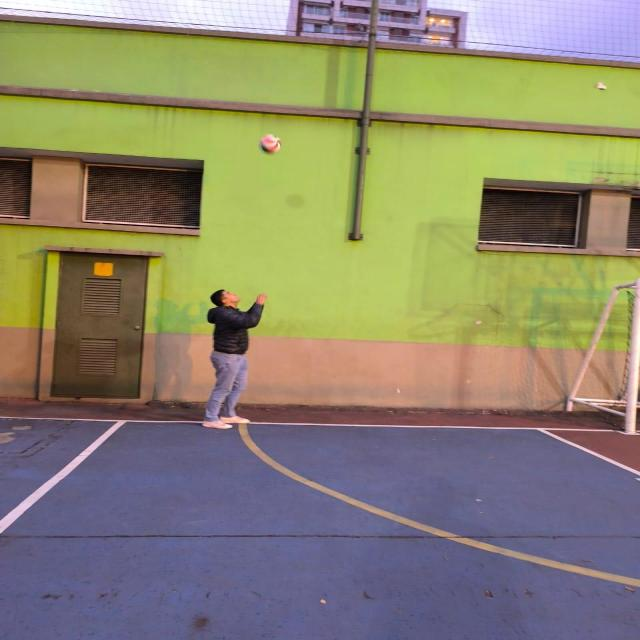volleyball: (259, 133, 282, 155)
